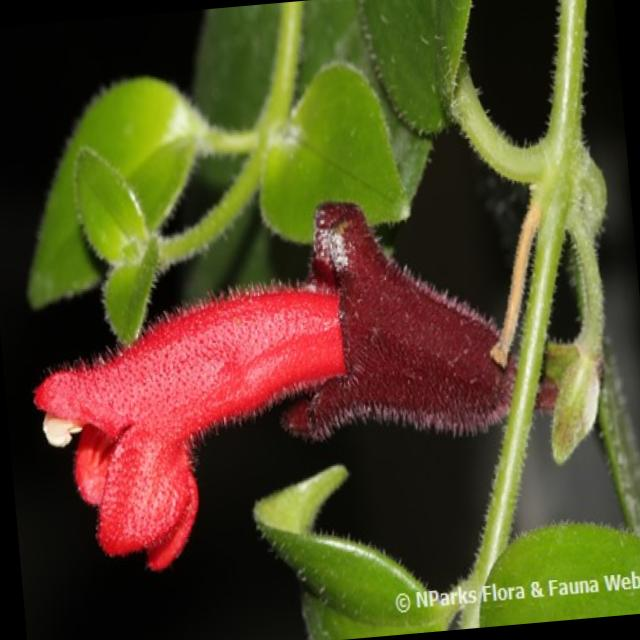Lipstick-Plant: (11, 194, 630, 530)
